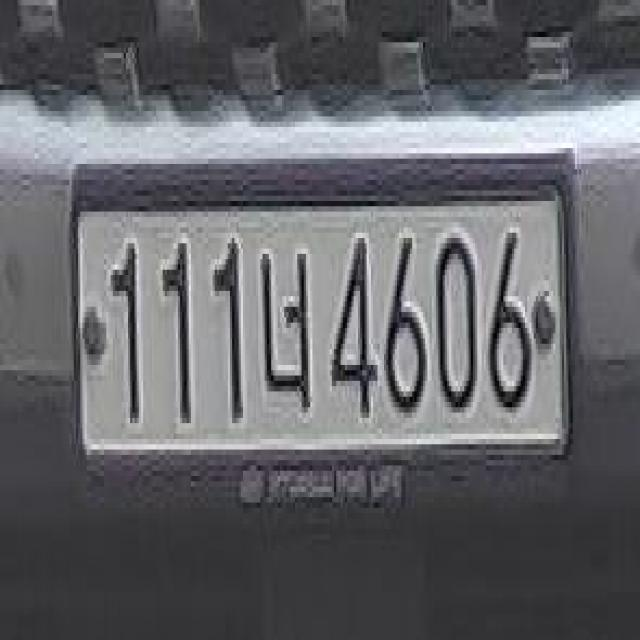illegal_plate: (73, 169, 567, 501)
